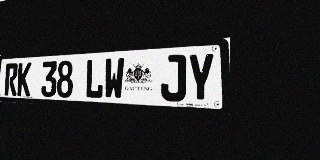3: (41, 61, 57, 97)
8: (56, 60, 74, 98)
J: (160, 54, 186, 102)
K: (17, 62, 31, 96)
L: (85, 58, 104, 99)
R: (4, 63, 18, 96)
W: (104, 57, 125, 100)
Y: (187, 53, 215, 103)
